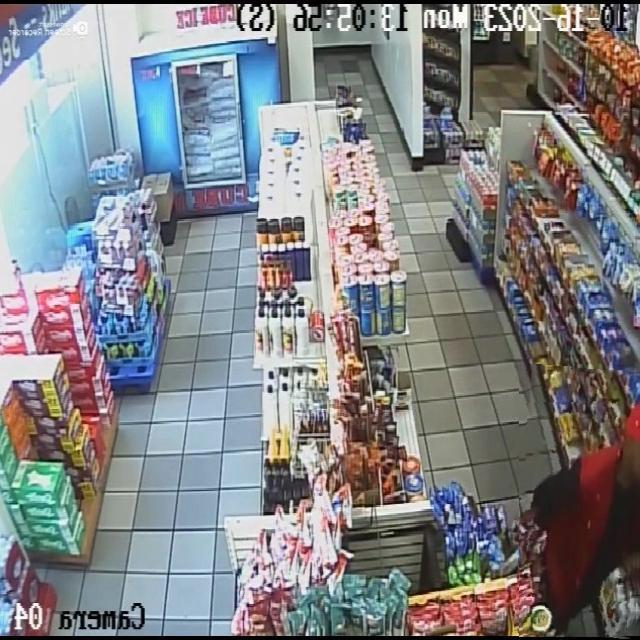Normal: (519, 366, 640, 637)
